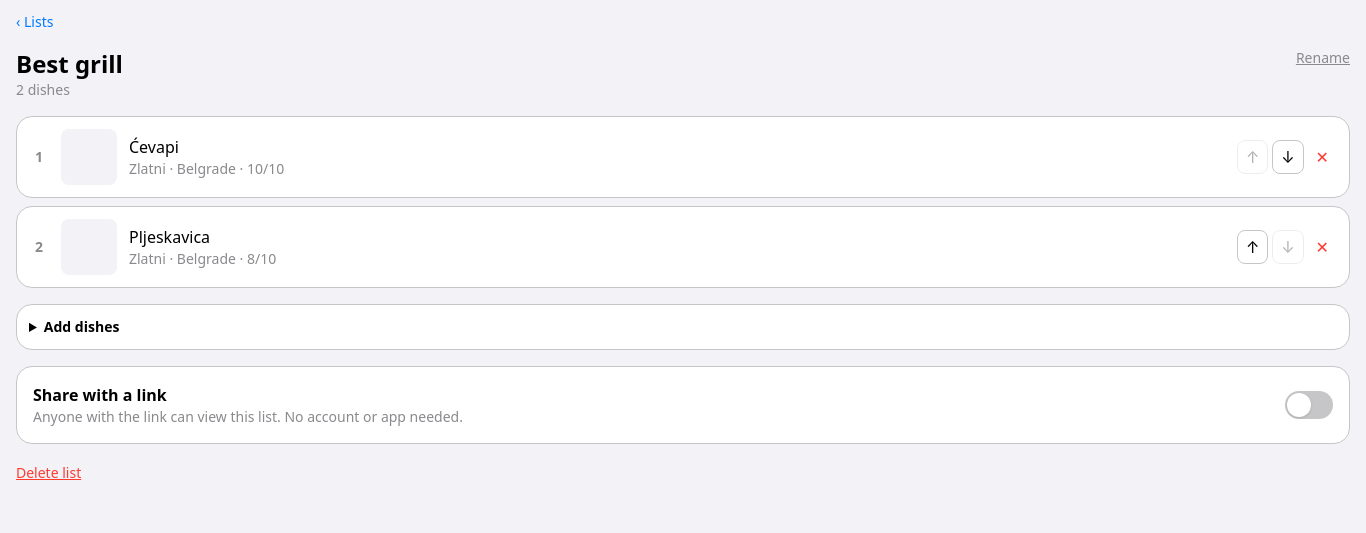
ListDetailPage: manage › shows an error when an action fails
Click the button named "Remove Ćevapi": (1322, 157) [1308, 141, 1337, 173]
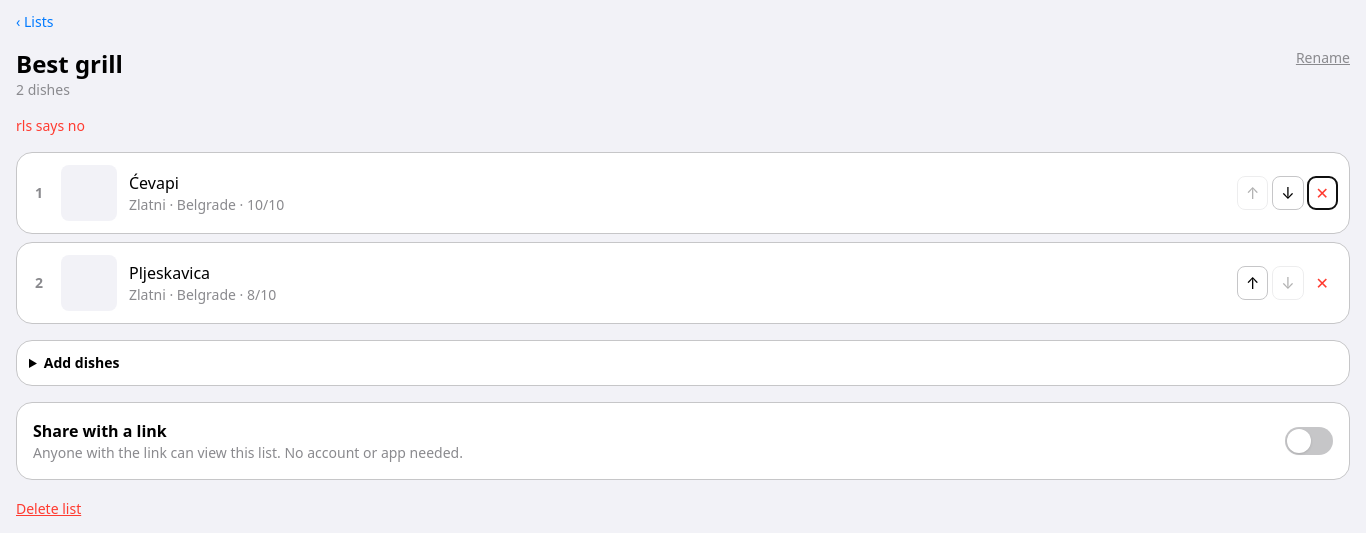
Result: the text "rls says no" is shown at [16, 116, 85, 135]
